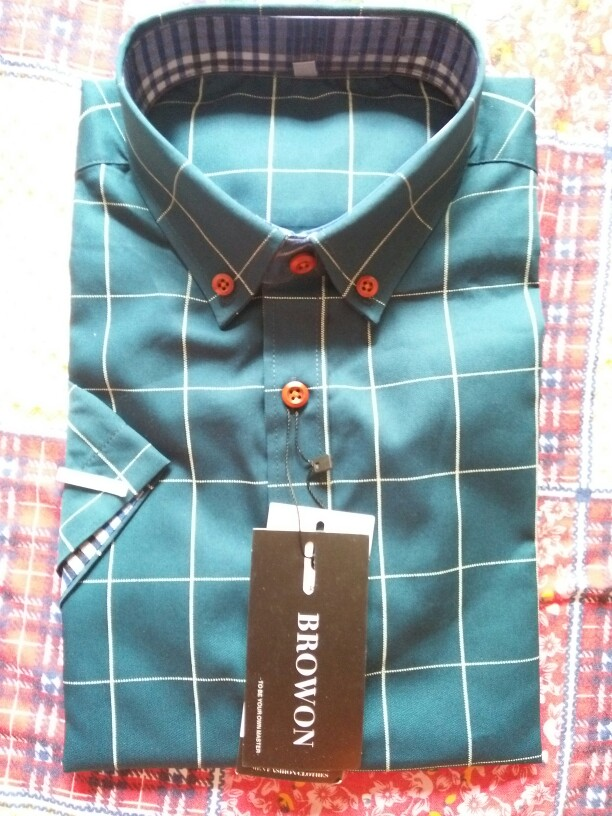shirts: (50, 4, 538, 758)
